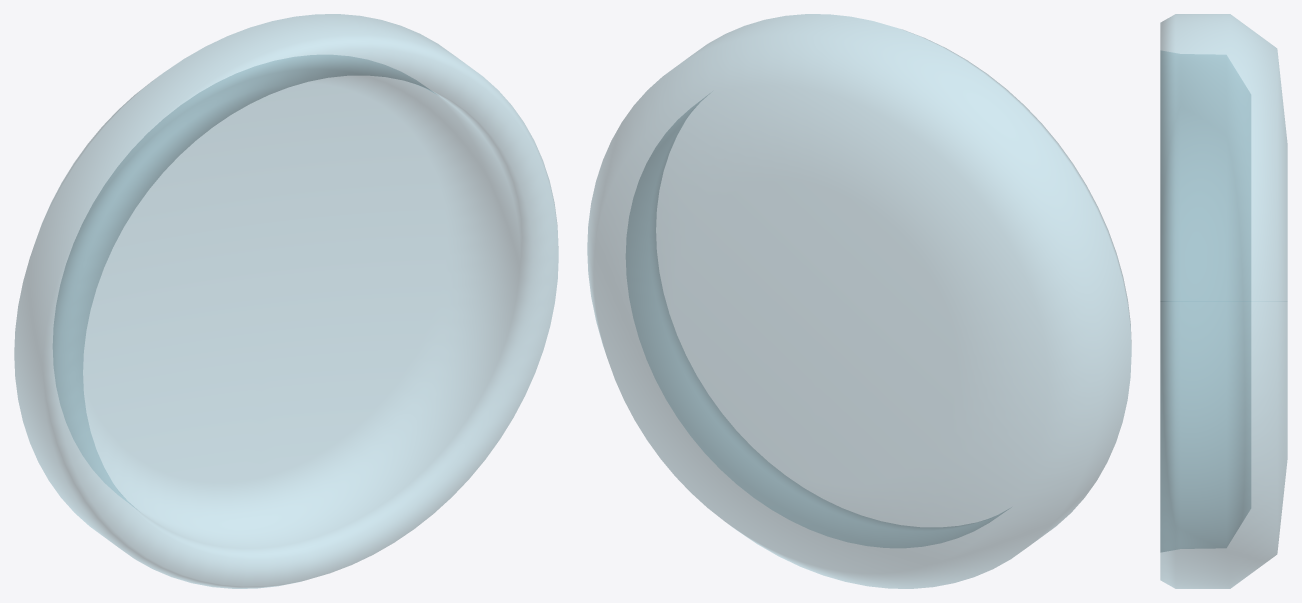
3 renders of one model, left to right at view 1: azimuth 30°, elevation 25°; view 2: azimuth 150°, elevation 25°; view 3: azimuth 270°, elevation 25°, orthographic. The views are drawn at different scales.
Visible parts, largest first — view 1: round-tray; view 2: round-tray; view 3: round-tray.
Boxes of the visible parts, left/top/right/bottom form: round-tray: left=14, top=14, right=558, bottom=588; round-tray: left=587, top=14, right=1131, bottom=588; round-tray: left=1160, top=14, right=1287, bottom=588.
Size of the model in its own units: 1.9 by 1.9 by 0.42.
